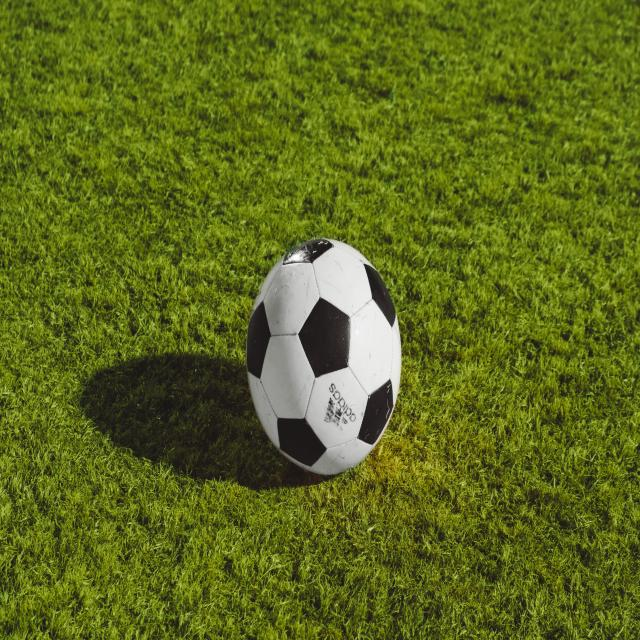Soccer Ball: (248, 238, 402, 475)
